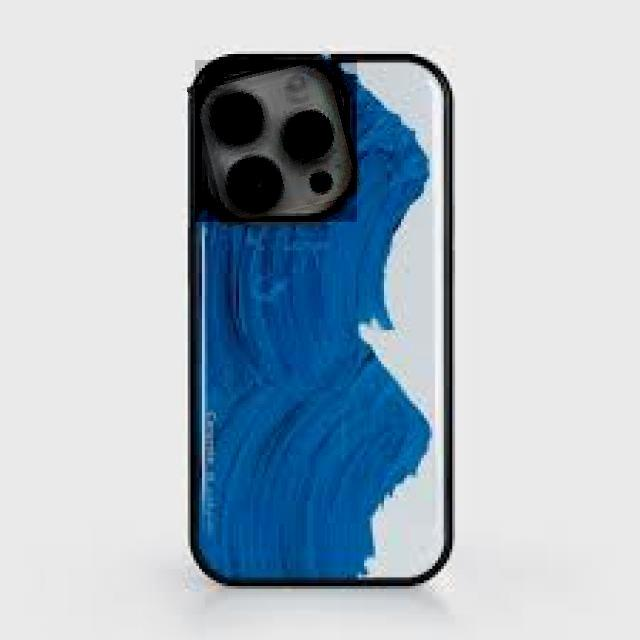lens: (204, 84, 342, 223)
phone: (179, 50, 458, 591)
